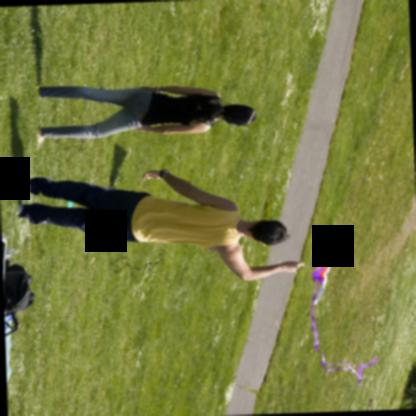backpack: (3, 261, 35, 318)
